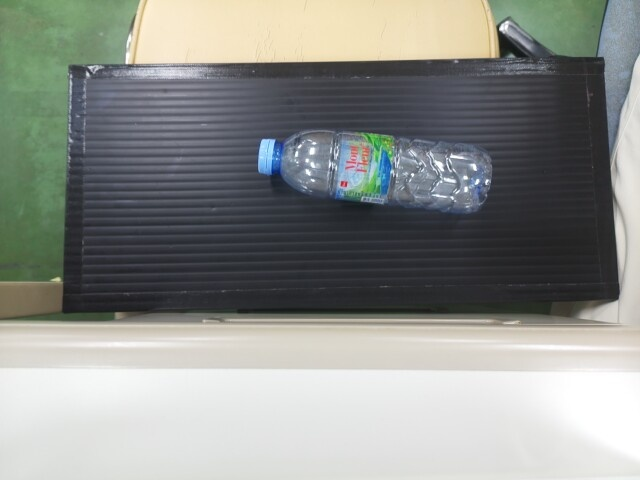plastic_bottle: (252, 128, 492, 212)
